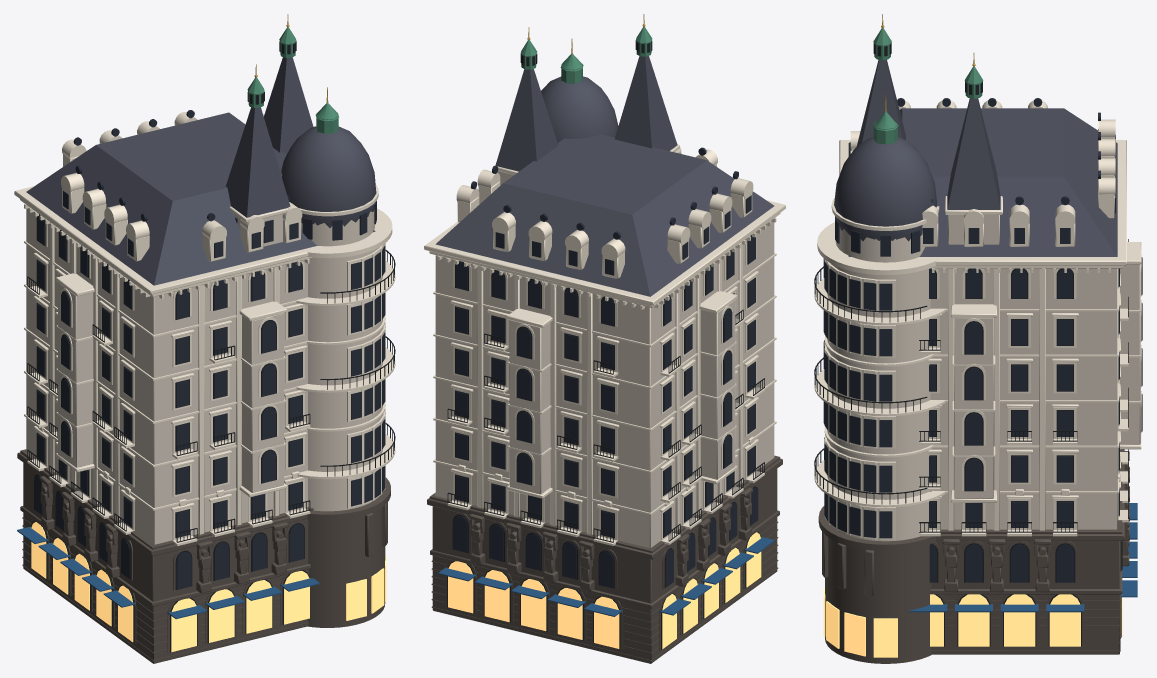
The model's file is building_otto.fbx.
3 renders of one model, left to right at view 1: azimuth 30°, elevation 25°; view 2: azimuth 150°, elevation 25°; view 3: azimuth 270°, elevation 25°, orthographic. The views are drawn at different scales.
Visible parts, largest first — view 1: building_otto; view 2: building_otto; view 3: building_otto.
Boxes of the visible parts, left/top/right/bottom form: building_otto: left=14, top=14, right=395, bottom=663; building_otto: left=424, top=14, right=785, bottom=663; building_otto: left=814, top=14, right=1142, bottom=663.
Bounding box in the file's own units: 21.59 × 42.55 × 21.59.
